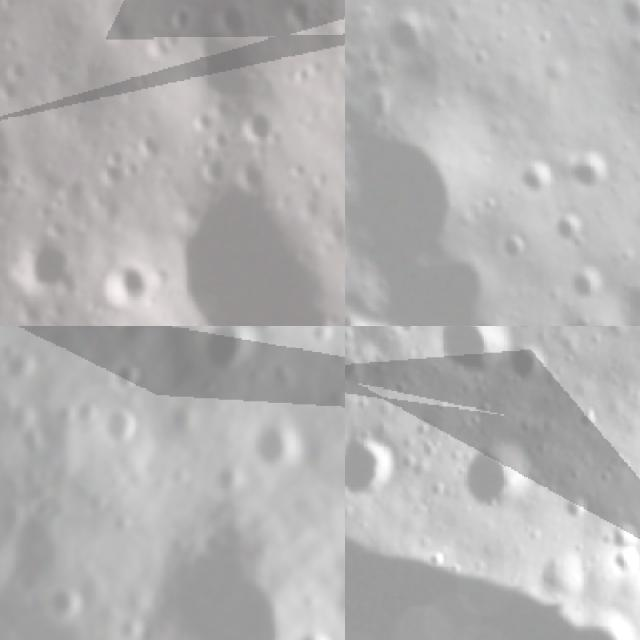crater: (104, 489, 335, 640), (345, 528, 640, 640), (169, 173, 345, 326), (345, 104, 478, 280), (240, 412, 323, 491), (176, 326, 272, 394), (454, 441, 536, 513), (88, 392, 158, 458), (436, 326, 504, 384), (37, 578, 97, 634), (101, 346, 156, 406), (345, 434, 393, 498), (558, 146, 617, 198), (382, 9, 433, 64), (202, 449, 254, 501), (0, 335, 46, 393), (547, 201, 595, 255), (19, 242, 64, 299), (96, 256, 145, 308), (503, 342, 550, 392), (65, 387, 111, 438), (275, 610, 345, 640), (515, 160, 555, 200), (568, 263, 605, 304), (602, 518, 640, 551), (607, 545, 640, 582), (610, 0, 640, 35), (620, 278, 640, 326), (497, 235, 529, 264), (574, 407, 600, 438), (557, 500, 593, 522)
